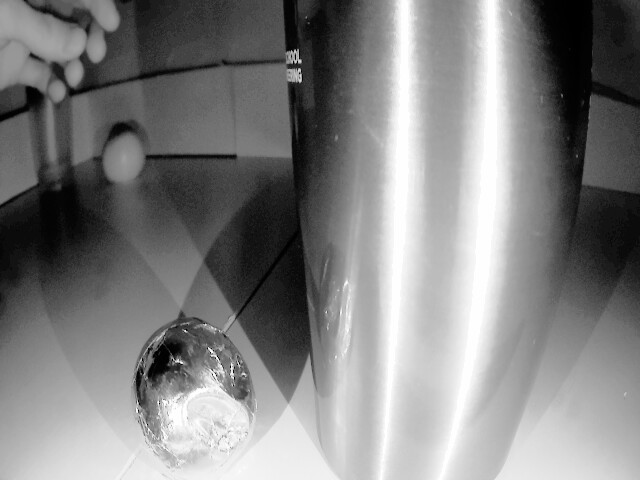black: (122, 320, 258, 480)
